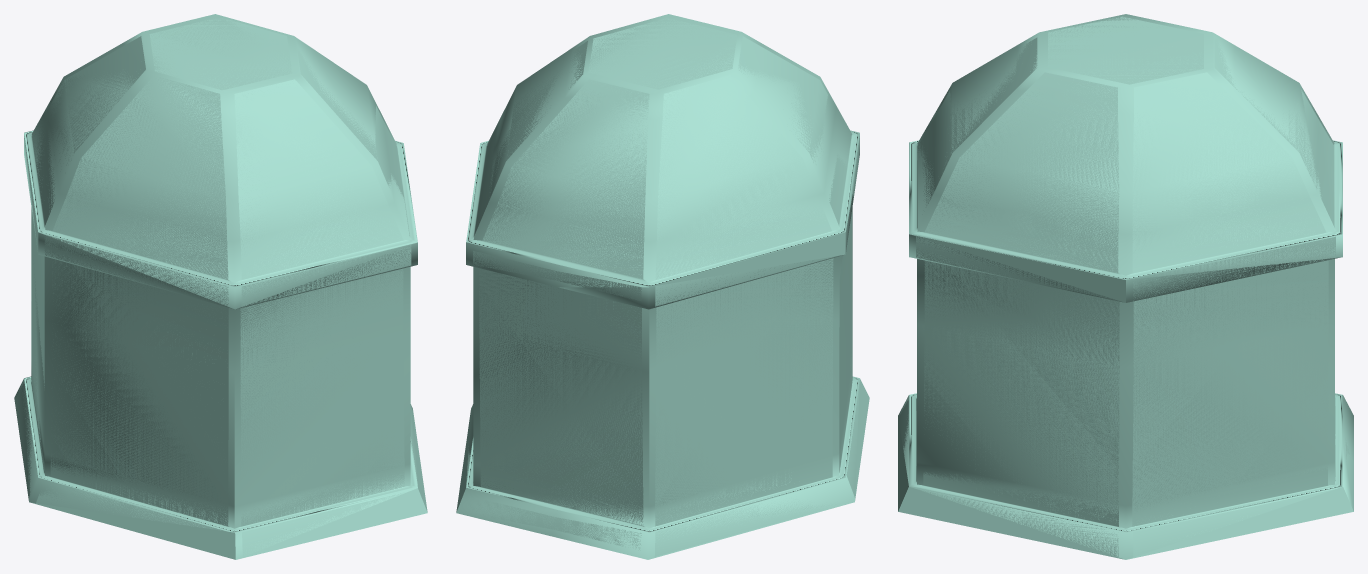
Rendered from space-kit__hangar_roundB.glb.
The picture shows the model from 3 angles, left to right: view 1: azimuth 30°, elevation 25°; view 2: azimuth 150°, elevation 25°; view 3: azimuth 270°, elevation 25°; orthographic projection. The views are drawn at different scales.
Parts seen in each view (by area): view 1: L0_accent, L1_accent; view 2: L0_accent, L1_accent; view 3: L0_accent, L1_accent.
Boxes of the visible parts, box(x1,y1,x2,y2) form: L0_accent: box(15, 18, 426, 556); L1_accent: box(14, 14, 427, 559); L0_accent: box(460, 18, 862, 556); L1_accent: box(456, 14, 869, 559); L0_accent: box(898, 16, 1349, 557); L1_accent: box(898, 14, 1353, 559).
Size of the model in its own units: 1 by 1 by 1.
